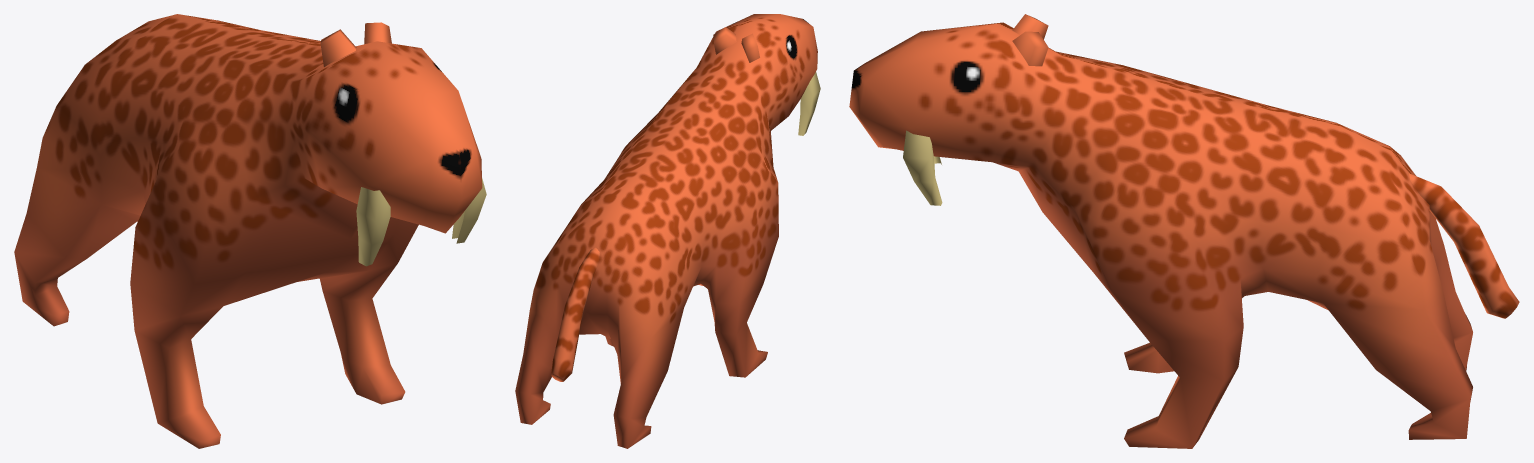
The model's file is Sabertooth.fbx.
3 renders of one model, left to right at view 1: azimuth 30°, elevation 25°; view 2: azimuth 150°, elevation 25°; view 3: azimuth 270°, elevation 25°, orthographic. The views are drawn at different scales.
Parts seen in each view (by area): view 1: Box001; view 2: Box001; view 3: Box001.
Part boxes in pixels (x1=…): Box001: x1=14, y1=14, x2=486, y2=448; Box001: x1=515, y1=14, x2=820, y2=448; Box001: x1=849, y1=14, x2=1519, y2=448.
Bounding box in the file's own units: 236 × 415 × 661.
